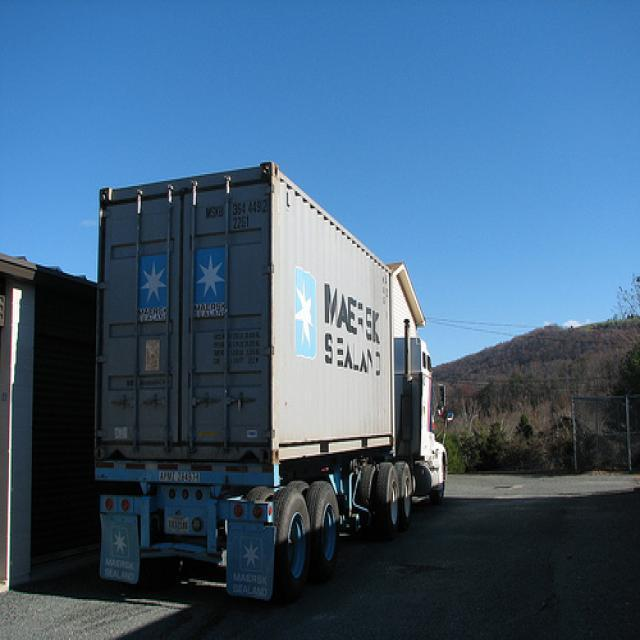ISO: (231, 214, 250, 229)
container_number: (204, 198, 269, 214)
